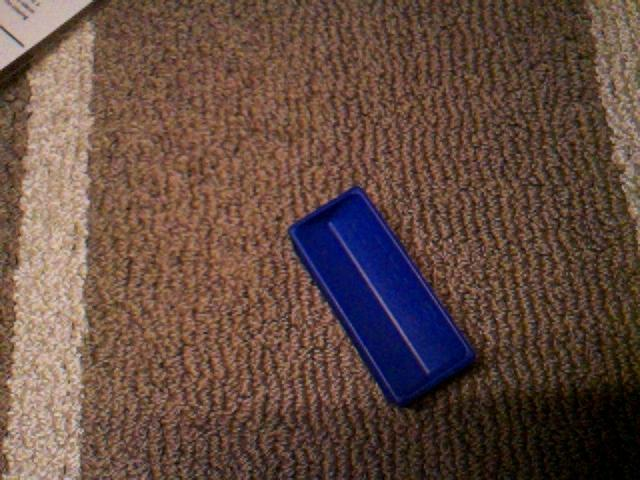blue: (287, 185, 478, 409)
